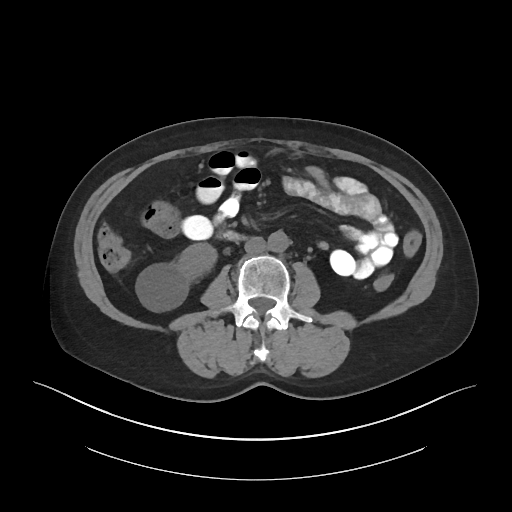Lesion: (131, 262, 192, 317)
